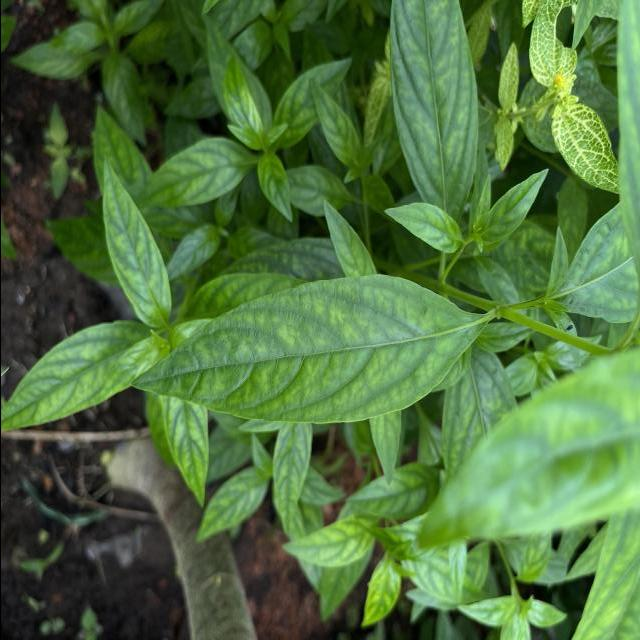Andrographis paniculata: (127, 274, 490, 427), (0, 318, 143, 432), (100, 153, 172, 328), (134, 136, 255, 209), (272, 58, 352, 149), (195, 468, 268, 543), (478, 168, 550, 243), (280, 513, 378, 567), (308, 78, 361, 168), (270, 424, 312, 536), (383, 202, 462, 254), (284, 165, 356, 218), (358, 555, 402, 627)
